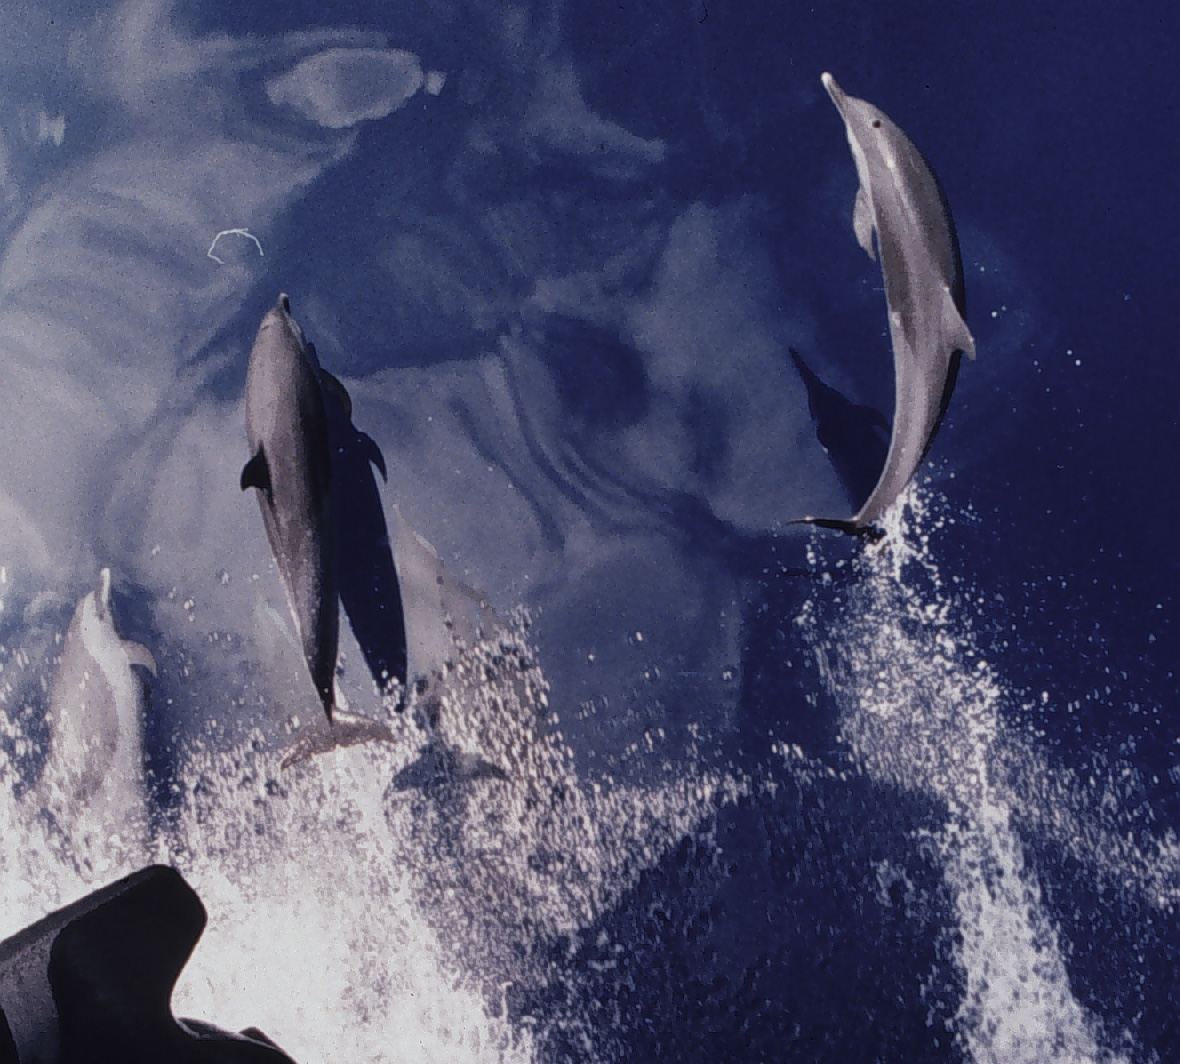dolphin: (815, 67, 975, 552), (238, 292, 391, 756), (43, 568, 158, 862)
